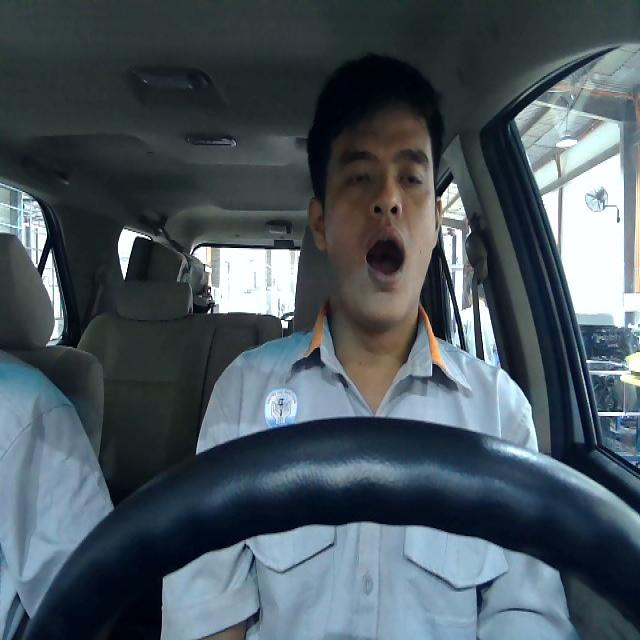yarning: (306, 105, 442, 328)
